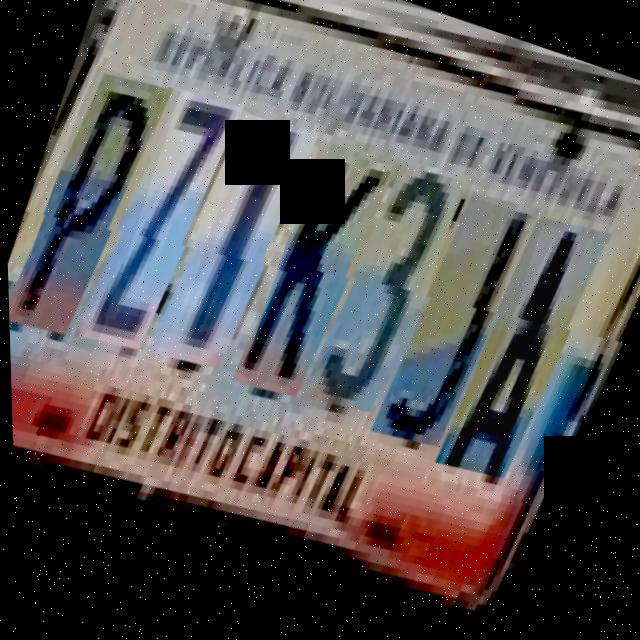1: (146, 110, 331, 394)
3: (300, 159, 481, 441)
A: (432, 218, 621, 511)
J: (369, 194, 550, 476)
K: (229, 141, 411, 423)
P: (2, 64, 185, 355)
Z: (75, 85, 256, 373)
